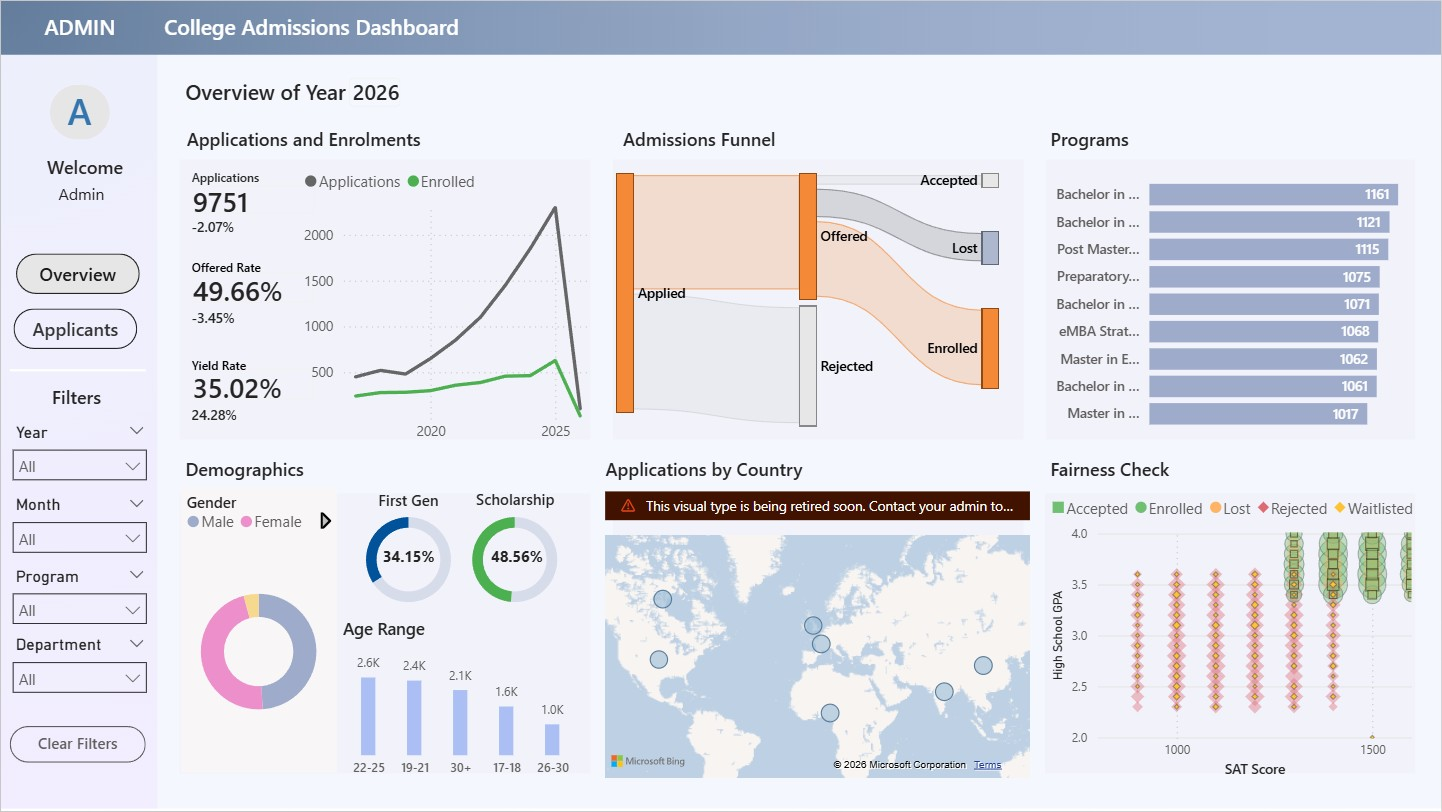

The page's visual inventory and layout, read from the dashboard file:
{"tool":"powerbi","page":{"name":"Overview","canvas":[1280,720],"ordinal":0},"visuals":[{"type":"textbox","box":[0,0,140.2,47.6],"z":0},{"type":"textbox","box":[140.2,0,1140.2,47.6],"z":1000},{"type":"cardVisual","fields":{"Data":["_Key_Measures.Total Applicants"]},"box":[164.2,158.9,120.5,35.8],"z":2000},{"type":"cardVisual","fields":{"Data":["Key_Measures.Offer Rate %"]},"box":[164.2,237.1,119.2,37.1],"z":3000},{"type":"cardVisual","fields":{"Data":["Key_Measures.Yield Rate %"]},"box":[164.2,322.5,119.2,37.7],"z":4000},{"type":"textbox","box":[164,146.5,97.7,20.9],"z":5000},{"type":"textbox","box":[164,226.7,98.8,19.8],"z":6000},{"type":"cardVisual","fields":{"Data":["Key_Measures.Applicants YoY %"]},"box":[164,354.7,100,27.9],"z":7000},{"type":"cardVisual","fields":{"Data":["Key_Measures.Yield Rate YoY %"]},"box":[164,189.5,94.2,24.4],"z":8000},{"type":"textbox","box":[164,312.8,94.2,18.6],"z":9000},{"type":"cardVisual","fields":{"Data":["Key_Measures.Offer Rate YoY %"]},"box":[164,269.8,94.2,25.6],"z":10000},{"type":"lineChart","fields":{"Y":["Applicants QoQ %.Total Applicants","Key_Measures.Enrolled"],"Category":["Date table.Year","Date table.Date.Variation.Date Hierarchy.Year","Date table.Date.Variation.Date Hierarchy.Quarter","Date table.Date.Variation.Date Hierarchy.Month"]},"box":[264,139.5,268.6,260.5],"z":11000},{"type":"slicer","fields":{"Values":["Date table.Month"]},"box":[0,434.7,139.5,62.8],"z":12000},{"type":"textbox","box":[160.3,106.4,232.1,32.1],"z":13000},{"type":"sankey02300D1BE6F5427989F3DE31CCA9E0F32020","fields":{"Source":["Sankey Flow Data.Source"],"Destination":["Sankey Flow Data.Destination"],"Weight":["Sum(Sankey Flow Data.Weight)"]},"box":[532.4,139.4,376.5,259.9],"z":14000},{"type":"barChart","fields":{"Y":["_Key_Measures.Total Applicants"],"Category":["programs.name"]},"box":[919.8,139.5,350.6,251.9],"z":15000},{"type":"textbox","box":[547.3,106.8,232.4,32.4],"z":16000},{"type":"map","fields":{"Category":["applicants.country"],"Size":["Count(applicants.applicant_id)"]},"box":[532.6,431.4,387.2,264],"z":17000},{"type":"donutChart","fields":{"Category":["applicants.gender"],"Y":["_Key_Measures.Total Applicants"]},"box":[160.5,432.6,138.4,253.5],"z":18000},{"type":"cardVisual","fields":{"Data":["Key_Measures.First Gen %"]},"box":[328.4,482.4,67.6,24.3],"z":18500},{"type":"donutChart","fields":{"Category":["applicants.is_first_generation"],"Y":["_Key_Measures.Total Applicants"]},"box":[298.6,439.2,127,109.5],"z":19000},{"type":"cardVisual","fields":{"Data":["Key_Measures.Scholarship %"]},"box":[425.7,482.4,66.2,24.3],"z":20000},{"type":"donutChart","fields":{"Category":["academic_profile.scholarship_requested"],"Y":["_Key_Measures.Total Applicants"]},"box":[393.2,439.2,127,109.5],"z":21000},{"type":"textbox","box":[159.3,400,232.6,32.6],"z":23000},{"type":"textbox","box":[160.5,431.4,96.5,30.2],"z":24000},{"type":"slicer","fields":{"Values":["programs.name"]},"box":[0,497.5,139.5,61.6],"z":25000},{"type":"shape","box":[43,74.4,53.5,48.8],"z":26000},{"type":"textbox","box":[43.4,71.1,53,55.4],"z":27000},{"type":"slicer","fields":{"Values":["programs.dept"]},"box":[0,559.1,139.5,61.6],"z":28000},{"type":"textbox","box":[31.4,131.4,87.2,34.9],"z":29000},{"type":"textbox","box":[38.4,157,65.1,32.6],"z":30000},{"type":"shape","box":[8.1,291.9,120.9,72.1],"z":31000},{"type":"textbox","box":[31.4,336,72.1,36],"z":32000},{"type":"scatterChart","fields":{"X":["academic_profile.SAT Bin"],"Series":["applications.status"],"Y":["academic_profile.GPA Bin"],"Size":["Key_Measures.Students in Bin"]},"box":[928.4,429.6,342,265.4],"z":33000},{"type":"textbox","box":[532.6,400,232.6,32.6],"z":34000},{"type":"textbox","box":[927.9,400,232.6,32.6],"z":35000},{"type":"textbox","box":[314,430.2,95.3,29.1],"z":36000},{"type":"textbox","box":[409.3,429.1,96.5,30.2],"z":37000},{"type":"textbox","box":[927.9,107,232.6,32.6],"z":38000},{"type":"slicer","fields":{"Values":["Date table.Year"]},"box":[0,369.6,139.5,66.3],"z":39000},{"type":"columnChart","title":"Age Range","fields":{"Category":["age_ranges.label"],"Y":["CountNonNull(applicants.age_range_id)"]},"box":[299.1,547.6,220.6,150.8],"z":40000},{"type":"textbox","box":[159.3,62.8,232.6,36],"z":41000},{"type":"cardVisual","fields":{"Data":["Max(Date table.Year)"]},"box":[304.7,62.8,57,36],"z":42000},{"type":"actionButton","box":[8.1,644.2,120.9,32.6],"z":43000},{"type":"pageNavigator","box":[12.8,224.4,110.5,36],"z":44000},{"type":"pageNavigator","box":[11.6,273.3,110.5,36],"z":45000}]}

Visuals, with their boxes in screenshot pixels (x1, y1, x2, y2), scaled from the page's 1280x720 canvas onto the 1442x812 screenshot:
textbox: x1=0 y1=0 x2=158 y2=54
textbox: x1=158 y1=0 x2=1441 y2=54
cardVisual - _Key_Measures.Total Applicants: x1=185 y1=179 x2=321 y2=220
cardVisual - Key_Measures.Offer Rate %: x1=185 y1=267 x2=319 y2=309
cardVisual - Key_Measures.Yield Rate %: x1=185 y1=364 x2=319 y2=406
textbox: x1=185 y1=165 x2=295 y2=189
textbox: x1=185 y1=256 x2=296 y2=278
cardVisual - Key_Measures.Applicants YoY %: x1=185 y1=400 x2=297 y2=431
cardVisual - Key_Measures.Yield Rate YoY %: x1=185 y1=214 x2=291 y2=241
textbox: x1=185 y1=353 x2=291 y2=374
cardVisual - Key_Measures.Offer Rate YoY %: x1=185 y1=304 x2=291 y2=333
lineChart - Applicants QoQ %.Total Applicants x Key_Measures.Enrolled: x1=297 y1=157 x2=600 y2=451
slicer - Date table.Month: x1=0 y1=490 x2=157 y2=561
textbox: x1=181 y1=120 x2=442 y2=156
sankey02300D1BE6F5427989F3DE31CCA9E0F32020 - Sankey Flow Data.Source x Sankey Flow Data.Destination: x1=600 y1=157 x2=1024 y2=450
barChart - _Key_Measures.Total Applicants x programs.name: x1=1036 y1=157 x2=1431 y2=441
textbox: x1=617 y1=120 x2=878 y2=157
map - applicants.country x Count(applicants.applicant_id): x1=600 y1=487 x2=1036 y2=784
donutChart - applicants.gender x _Key_Measures.Total Applicants: x1=181 y1=488 x2=337 y2=774
cardVisual - Key_Measures.First Gen %: x1=370 y1=544 x2=446 y2=571
donutChart - applicants.is_first_generation x _Key_Measures.Total Applicants: x1=336 y1=495 x2=479 y2=619
cardVisual - Key_Measures.Scholarship %: x1=480 y1=544 x2=554 y2=571
donutChart - academic_profile.scholarship_requested x _Key_Measures.Total Applicants: x1=443 y1=495 x2=586 y2=619
textbox: x1=179 y1=451 x2=441 y2=488
textbox: x1=181 y1=487 x2=290 y2=521
slicer - programs.name: x1=0 y1=561 x2=157 y2=631
shape: x1=48 y1=84 x2=109 y2=139
textbox: x1=49 y1=80 x2=109 y2=143
slicer - programs.dept: x1=0 y1=631 x2=157 y2=700
textbox: x1=35 y1=148 x2=134 y2=188
textbox: x1=43 y1=177 x2=117 y2=214
shape: x1=9 y1=329 x2=145 y2=411
textbox: x1=35 y1=379 x2=117 y2=420
scatterChart - academic_profile.SAT Bin x applications.status: x1=1046 y1=484 x2=1431 y2=784
textbox: x1=600 y1=451 x2=862 y2=488
textbox: x1=1045 y1=451 x2=1307 y2=488
textbox: x1=354 y1=485 x2=461 y2=518
textbox: x1=461 y1=484 x2=570 y2=518
textbox: x1=1045 y1=121 x2=1307 y2=157
slicer - Date table.Year: x1=0 y1=417 x2=157 y2=492
"Age Range" columnChart: x1=337 y1=618 x2=585 y2=788
textbox: x1=179 y1=71 x2=441 y2=111
cardVisual - Max(Date table.Year): x1=343 y1=71 x2=407 y2=111
actionButton: x1=9 y1=727 x2=145 y2=763
pageNavigator: x1=14 y1=253 x2=139 y2=294
pageNavigator: x1=13 y1=308 x2=138 y2=349
